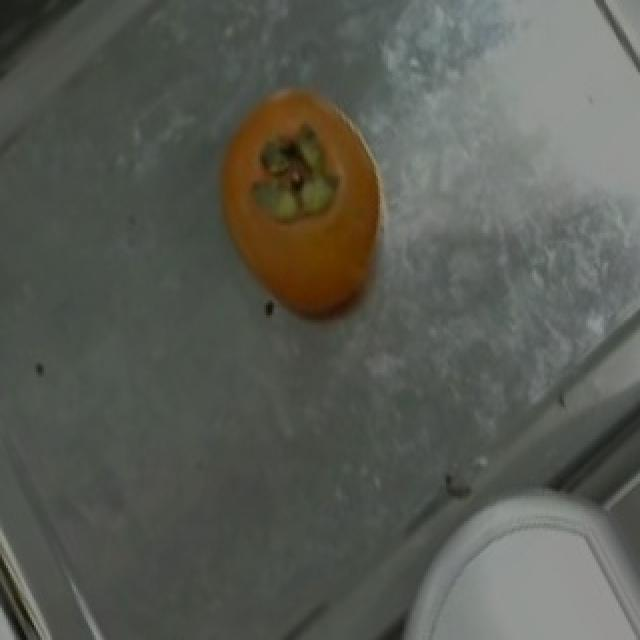Fruit: (192, 74, 412, 335), (398, 493, 640, 640)
